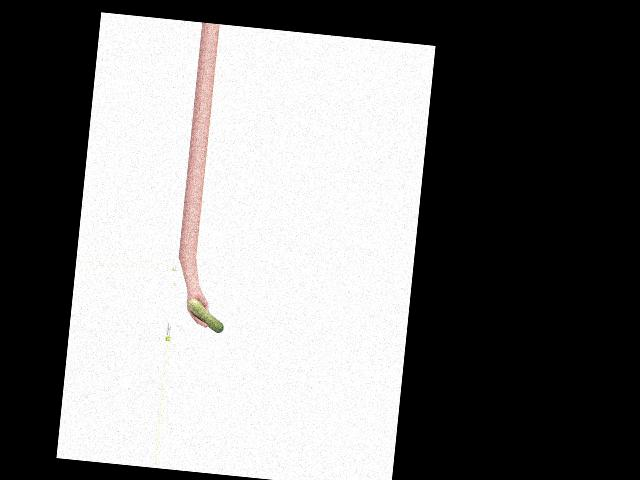cucumber: (186, 298, 225, 332)
